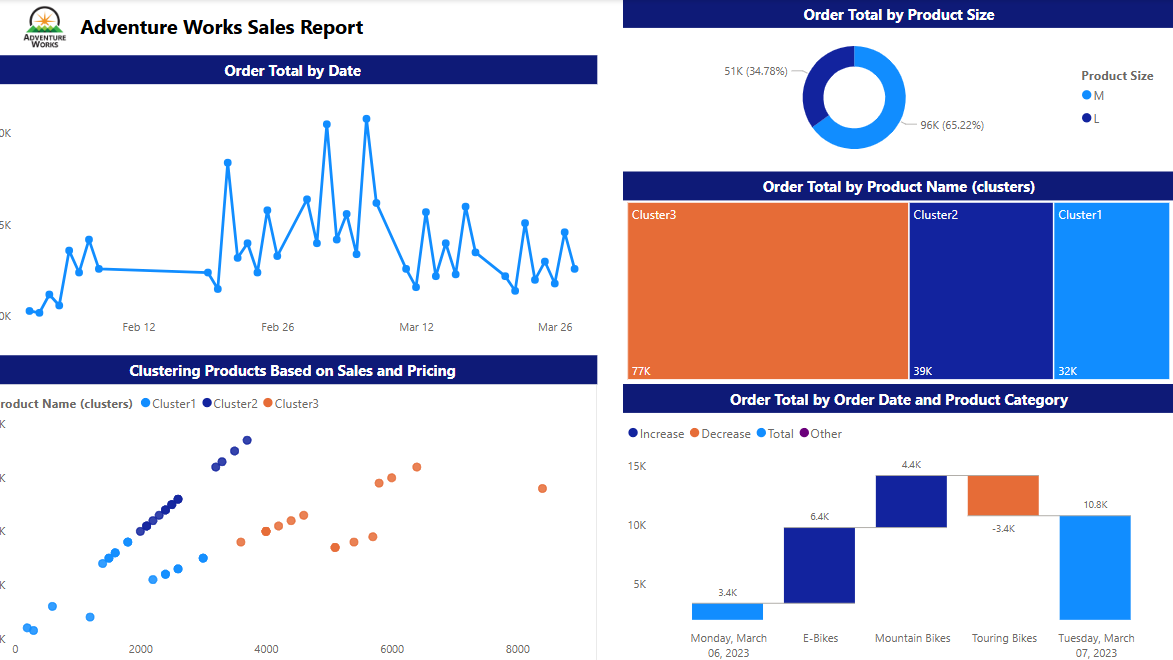

What the dashboard file says about the page in this screenshot:
{"tool":"powerbi","page":{"name":"Page 2","canvas":[1280,720],"ordinal":0},"visuals":[{"type":"donutChart","fields":{"Category":["Sales.Product Size"],"Y":["Sum(Sales.Order Total)"]},"box":[684.7,31.6,595.5,150.9],"z":0},{"type":"scatterChart","fields":{"X":["Sum(Sales.Order Total)"],"Category":["Sales.Product Name"],"Y":["Sum(Sales.Product Price)"],"Series":["Sales.Product Name (clusters)"]},"box":[0,415.8,657.3,304.6],"z":1000},{"type":"treemap","fields":{"Values":["Sum(Sales.Order Total)"],"Group":["Sales.Product Name (clusters)"]},"box":[684.7,214.1,595.5,201.7],"z":1001},{"type":"lineChart","fields":{"Y":["Sum(Sales.Order Total)"],"Category":["Sales.Order Date"]},"box":[0,91.9,657.3,281.3],"z":1002},{"type":"waterfallChart","fields":{"Category":["Sales.Order Date"],"Breakdown":["Sales.Product Category"],"Y":["Sum(Sales.Order Total)"]},"box":[684.7,447.3,595.5,273.1],"z":1003},{"type":"textbox","box":[0,60.4,657.3,31.6],"z":1004},{"type":"textbox","box":[684.7,0,595.5,31.6],"z":1005},{"type":"textbox","box":[0,384.2,657.3,31.6],"z":1006},{"type":"textbox","box":[684.7,415.8,595.5,31.6],"z":1007},{"type":"textbox","box":[684.7,186.6,595.5,31.6],"z":1008},{"type":"textbox","box":[94.7,9.6,544.8,43.9],"z":1009},{"type":"image","box":[0,0,122.1,60.4],"z":1010}]}

Visuals, with their boxes in screenshot pixels (x1, y1, x2, y2), scaled from the page's 1280x720 canvas onto the 1173x660 screenshot:
donutChart - Sales.Product Size x Sum(Sales.Order Total): [x1=627, y1=29, x2=1172, y2=167]
scatterChart - Sum(Sales.Order Total) x Sales.Product Name: [x1=0, y1=381, x2=602, y2=659]
treemap - Sum(Sales.Order Total) x Sales.Product Name (clusters): [x1=627, y1=196, x2=1172, y2=381]
lineChart - Sum(Sales.Order Total) x Sales.Order Date: [x1=0, y1=84, x2=602, y2=342]
waterfallChart - Sales.Order Date x Sales.Product Category: [x1=627, y1=410, x2=1172, y2=659]
textbox: [x1=0, y1=55, x2=602, y2=84]
textbox: [x1=627, y1=0, x2=1172, y2=29]
textbox: [x1=0, y1=352, x2=602, y2=381]
textbox: [x1=627, y1=381, x2=1172, y2=410]
textbox: [x1=627, y1=171, x2=1172, y2=200]
textbox: [x1=87, y1=9, x2=586, y2=49]
image: [x1=0, y1=0, x2=112, y2=55]
